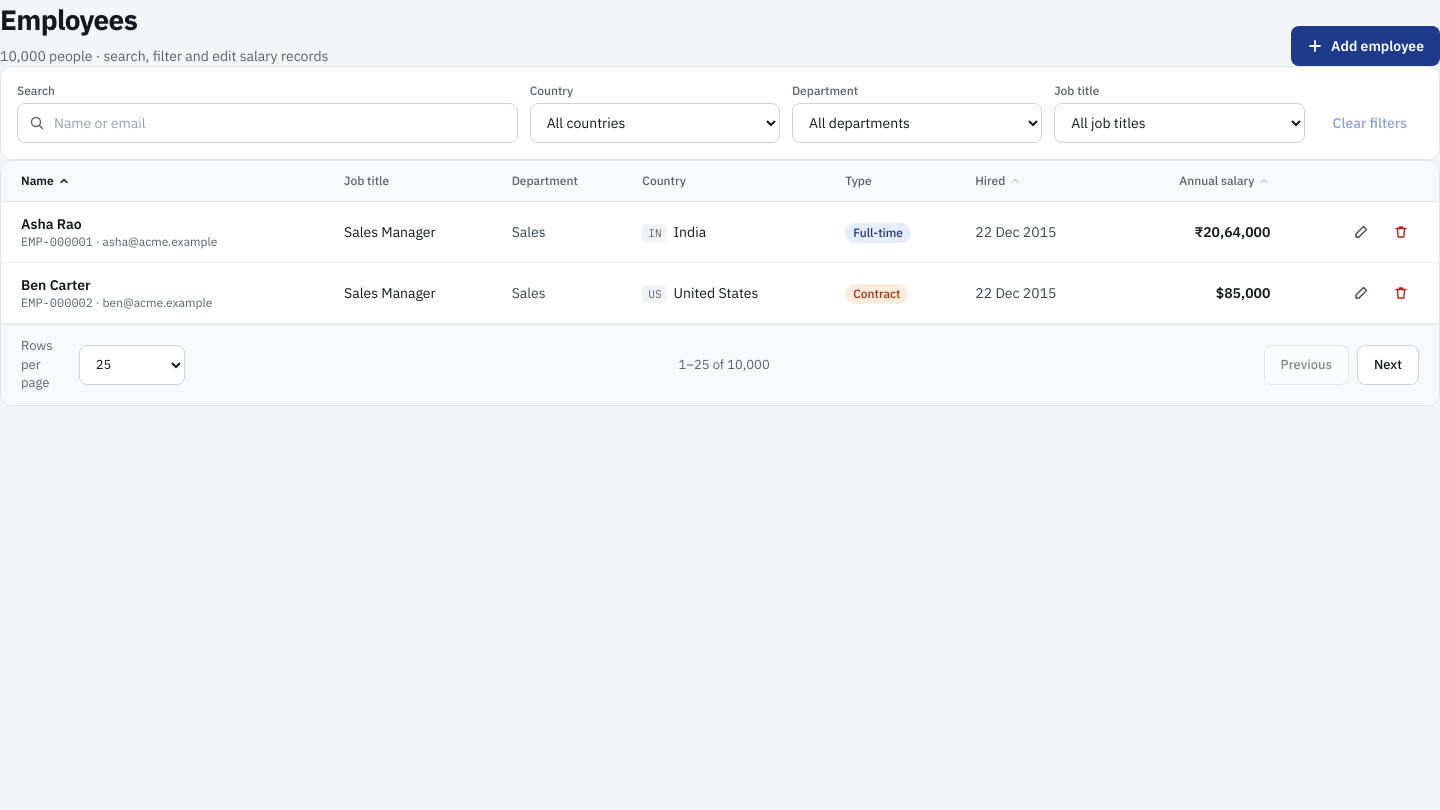
it: EmployeesPage › deletes an employee only after confirmation
Click the button named "Delete Asha Rao": click(1401, 232) [1383,214,1419,250]
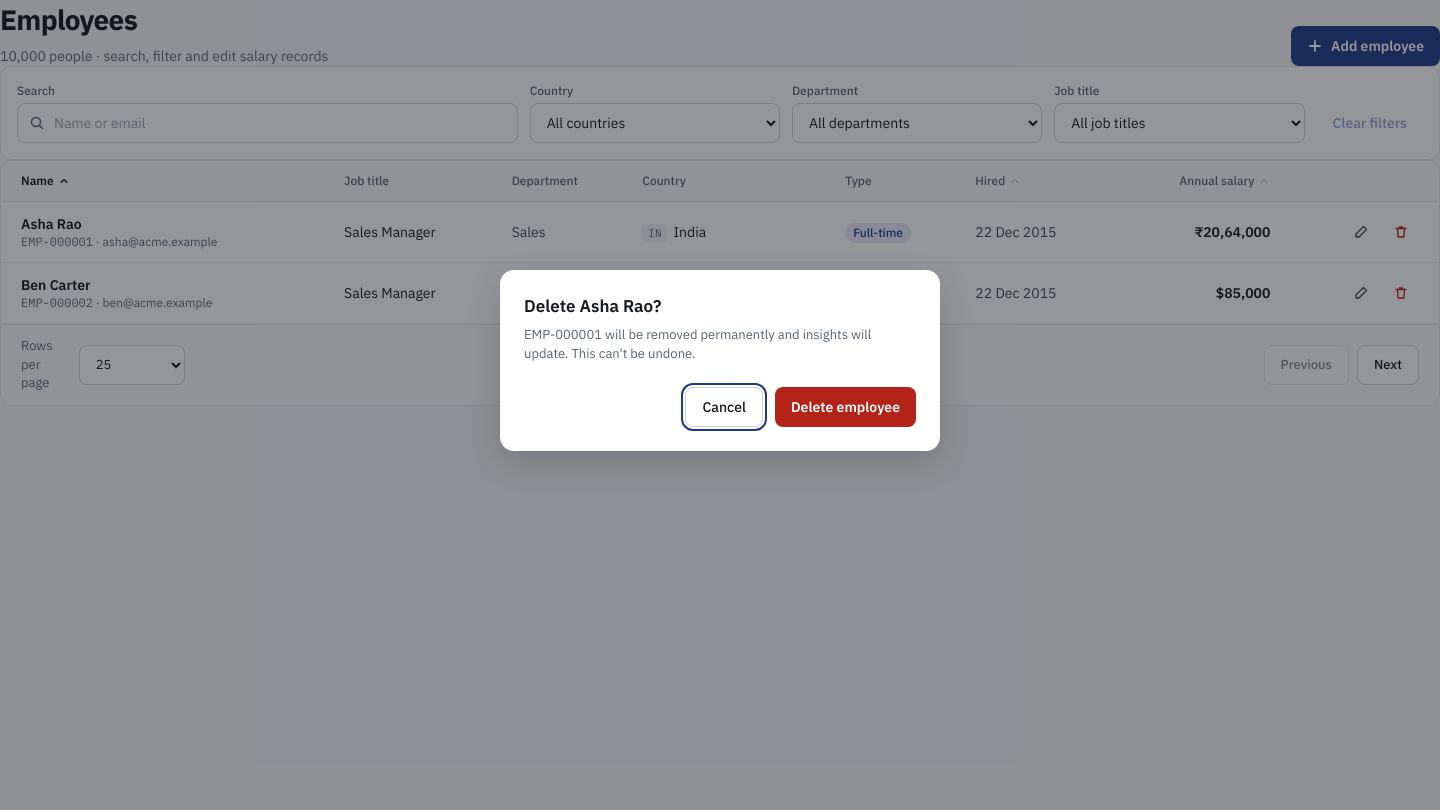
Click the button "Delete employee": click(845, 407) [775,387,916,427]
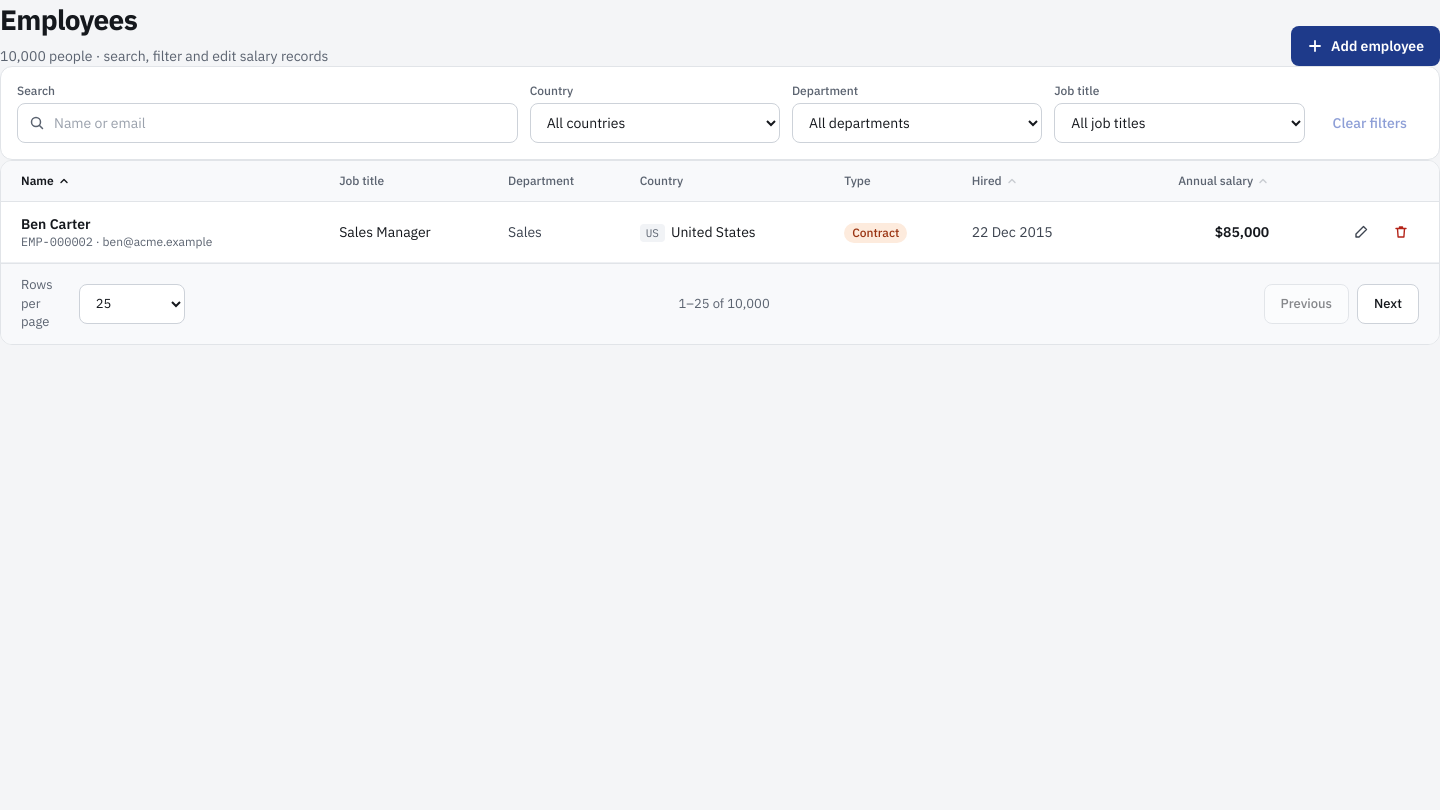
Check: the text "Asha Rao" is gone
